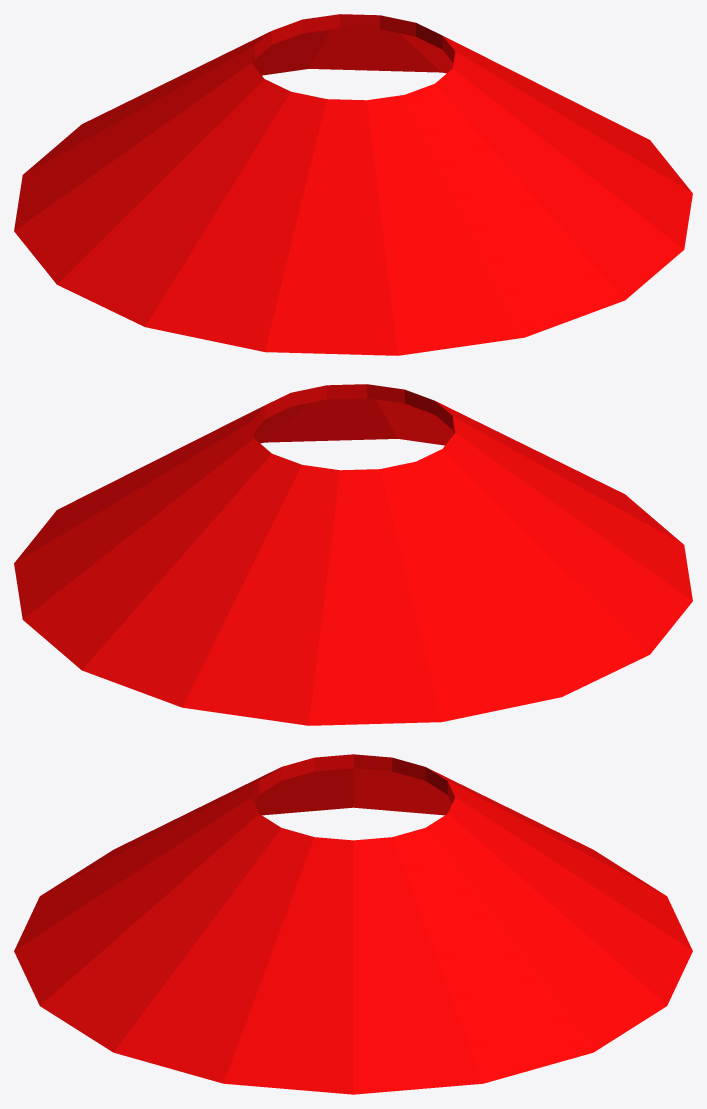
Rendered from equipment_0006_disc.glb.
The picture shows the model from 3 angles, top to bottom: view 1: azimuth 30°, elevation 25°; view 2: azimuth 150°, elevation 25°; view 3: azimuth 270°, elevation 25°; orthographic projection.
Visible parts, largest first — view 1: disc; view 2: disc; view 3: disc.
Part boxes in pixels (left/top/right/bottom): disc: left=14, top=14, right=692, bottom=355; disc: left=14, top=384, right=692, bottom=725; disc: left=14, top=754, right=692, bottom=1094.
Bounding box in the file's own units: 38 × 9.5 × 38.
